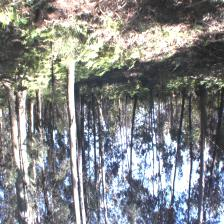trunktrack_idkeyframe: (63, 68, 79, 198), (7, 96, 28, 164)
